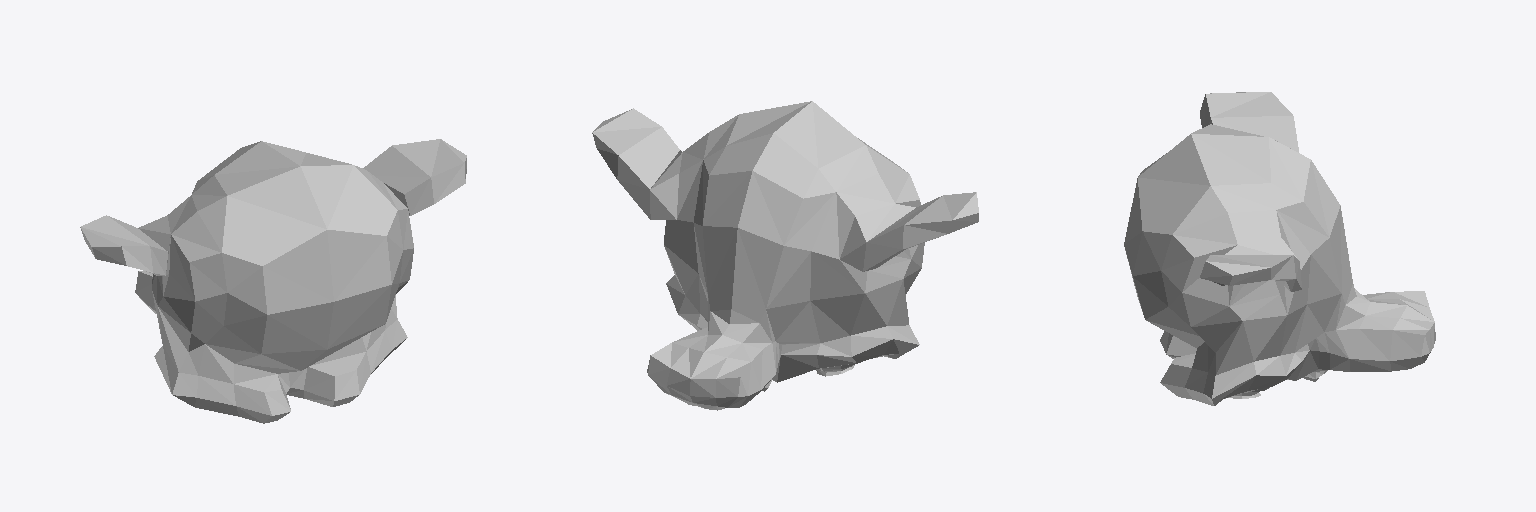
File: suzanne.obj
3 views of the same model, side by side, from view 1: azimuth 30°, elevation 25°; view 2: azimuth 150°, elevation 25°; view 3: azimuth 270°, elevation 25° (orthographic).
Visible parts, largest first — view 1: Suzanne; view 2: Suzanne; view 3: Suzanne.
Boxes of the visible parts, x1=… form: Suzanne: x1=80, y1=139, x2=466, y2=423; Suzanne: x1=592, y1=101, x2=978, y2=410; Suzanne: x1=1124, y1=92, x2=1435, y2=405.
Bounding box in the file's own units: 262 × 164 × 189.